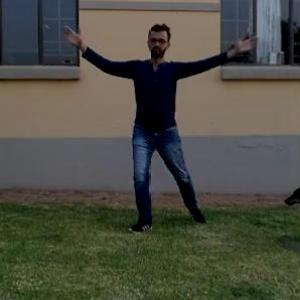takeoff: (56, 23, 232, 212)
